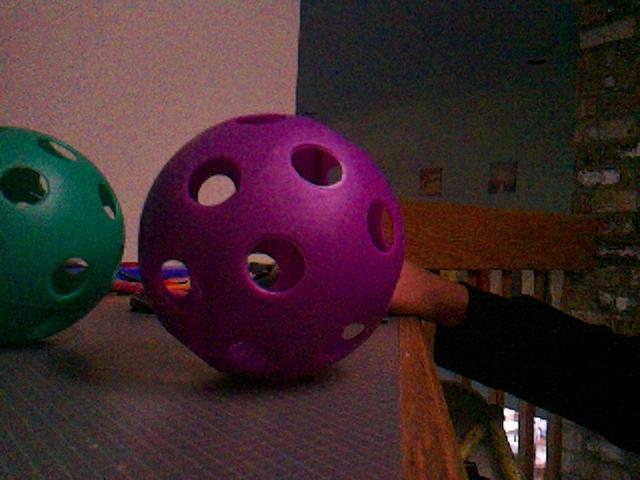Green: (1, 122, 126, 346)
Purple: (135, 109, 407, 384)
